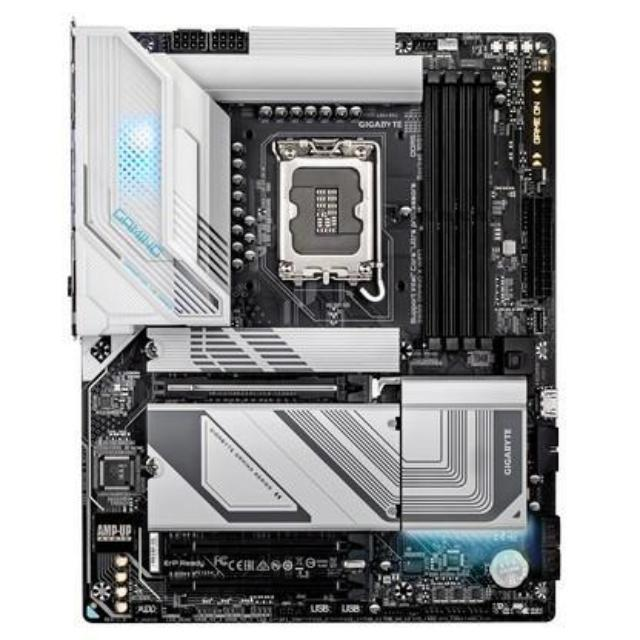Mainboard: (54, 11, 566, 637)
